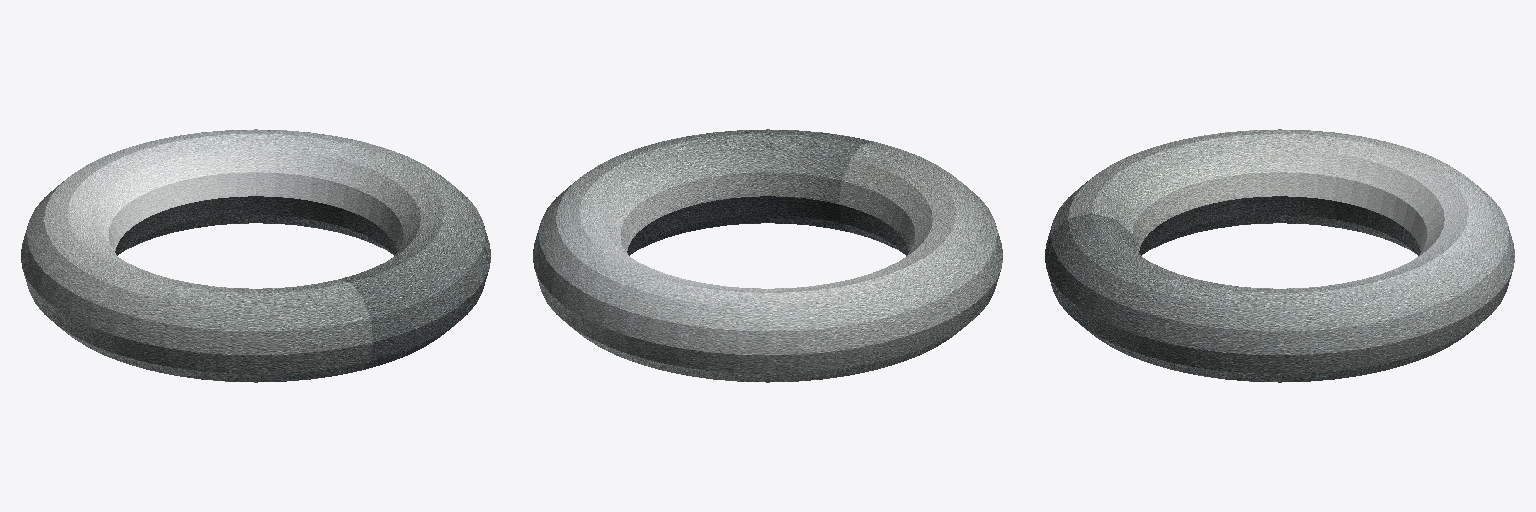
The picture shows the model from 3 angles: view 1: azimuth 30°, elevation 25°; view 2: azimuth 150°, elevation 25°; view 3: azimuth 270°, elevation 25°; orthographic projection.
Parts seen in each view (by area): view 1: Torus; view 2: Torus; view 3: Torus.
Part boxes in pixels (bbox=[...]): Torus: bbox=[21, 129, 490, 382]; Torus: bbox=[533, 129, 1002, 382]; Torus: bbox=[1045, 129, 1514, 382].
Bounding box in the file's own units: 100 × 20 × 100.
Materials: 1 (1 with a texture image).